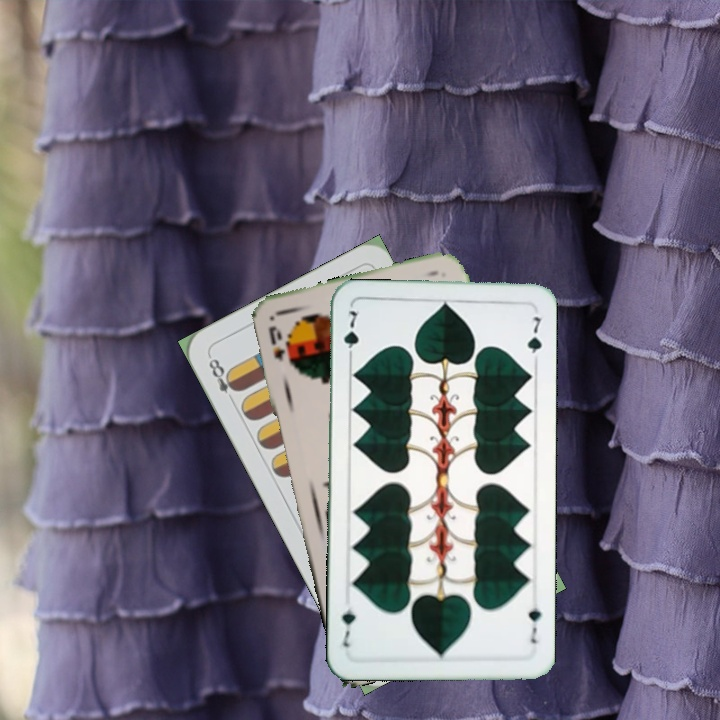E8: (204, 352, 242, 407)
G7: (339, 306, 362, 363), (525, 595, 544, 646)
SO: (264, 321, 288, 363)
